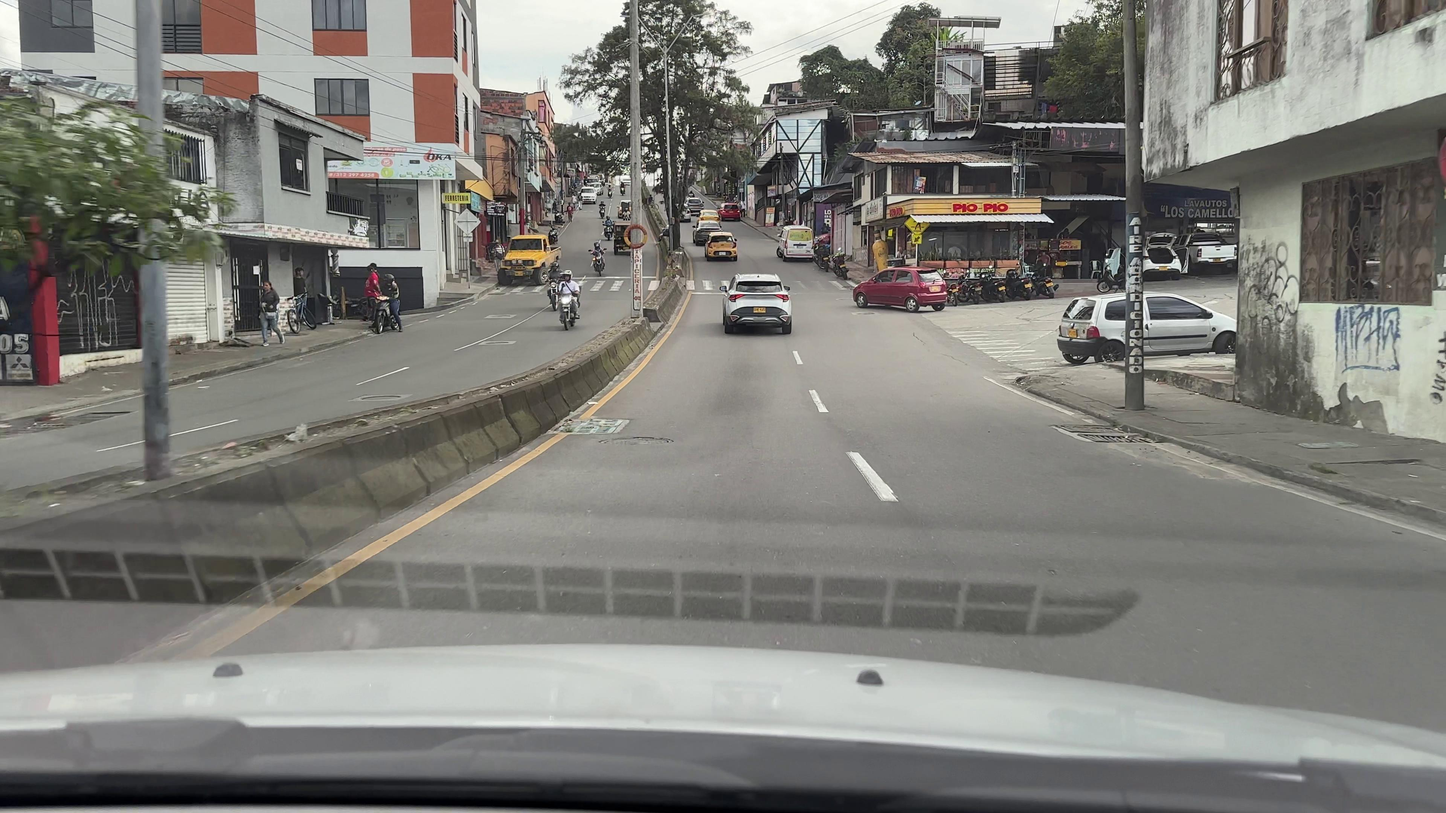registro: (599, 437, 673, 445)
rejilla: (1057, 426, 1158, 443), (554, 420, 623, 433)
